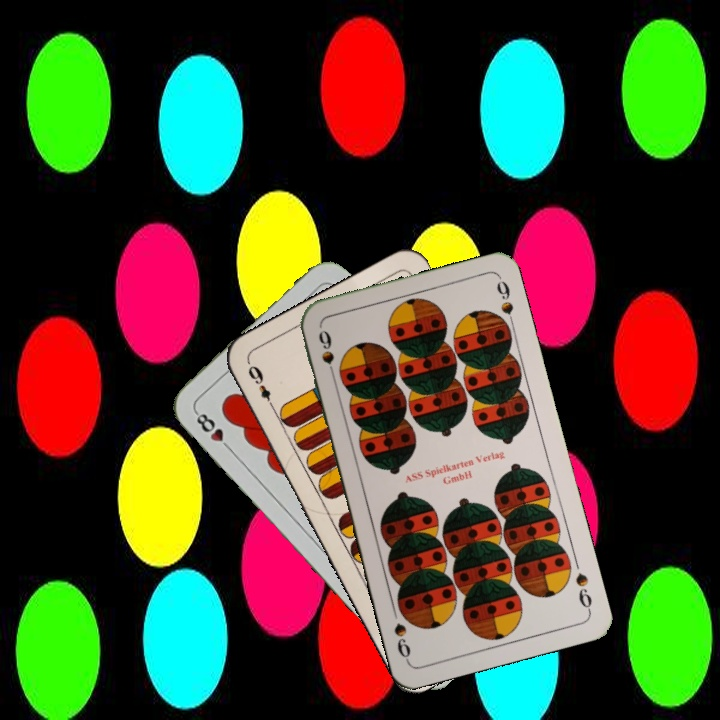E9: (243, 359, 278, 413)
H8: (191, 407, 235, 454)
S9: (314, 326, 338, 382), (571, 569, 595, 615)
